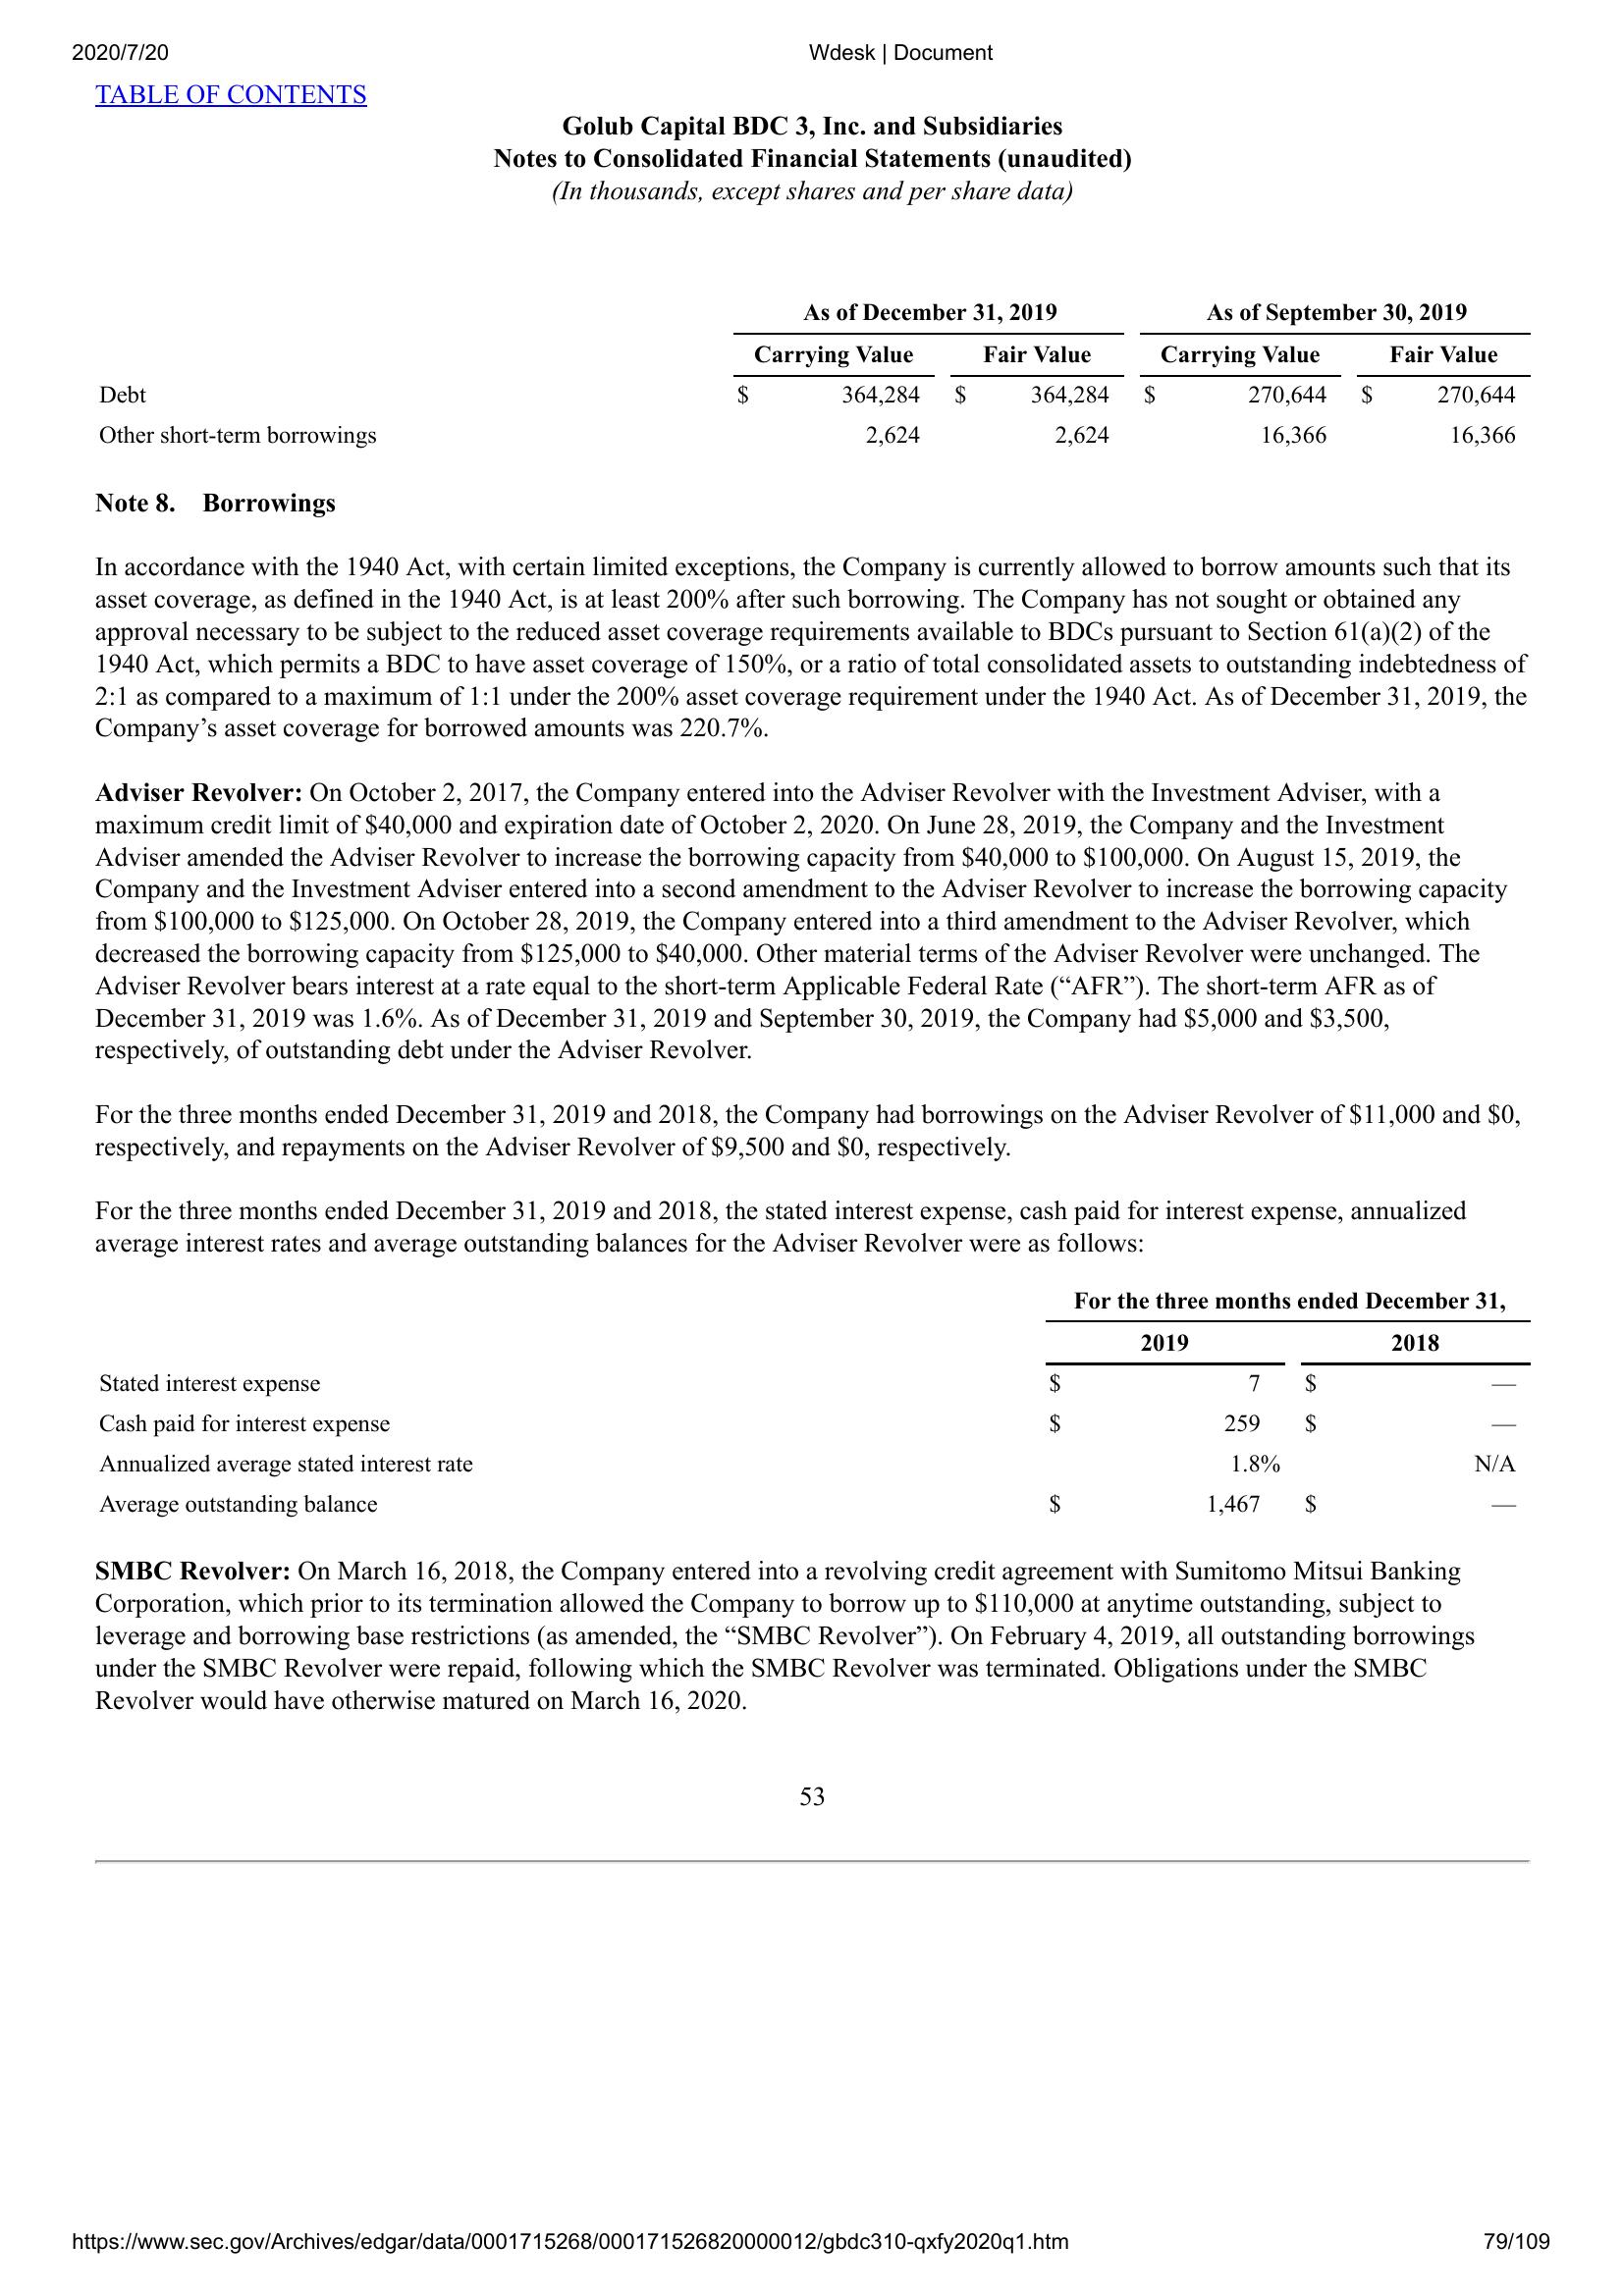table: (102, 1287, 1530, 1520), (79, 298, 1539, 456)
